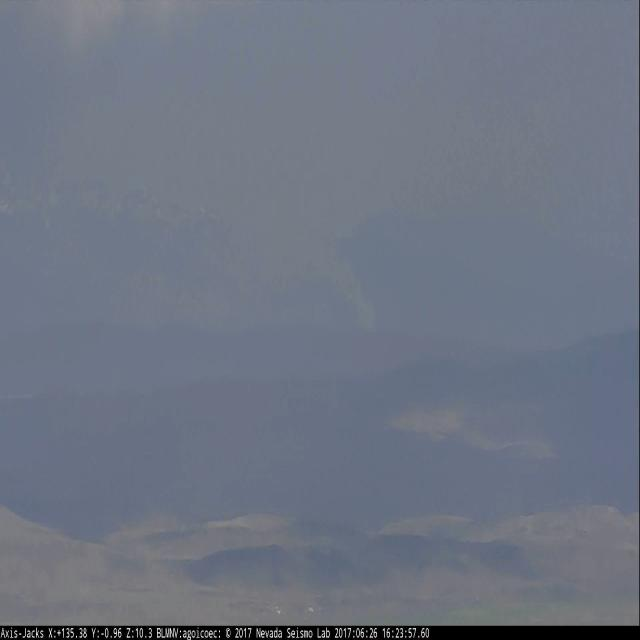smoke: (306, 244, 379, 328)
